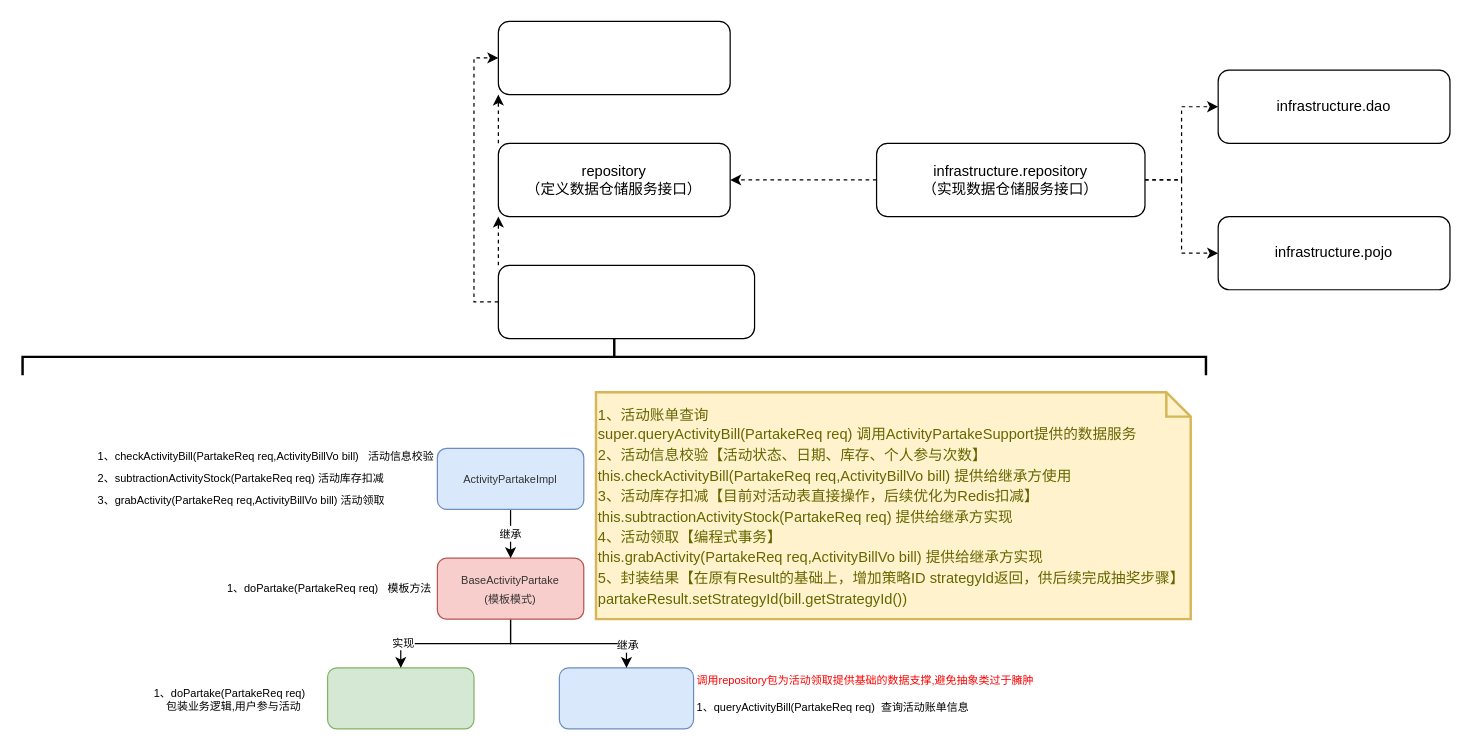
This 1471x750 diagram has some shape labels left out. The shapes that lost their labels are listed below. From the top down, each one's box as (x1, y1, x2, y2) in pixels, then its label:
(497, 20, 730, 95): model （聚合对象、便于处理业务逻辑）
(497, 264, 755, 339): service （模板模式领取活动）
(326, 667, 474, 729): IActivityPartake
(558, 667, 694, 729): ActivityPartakeSupport
